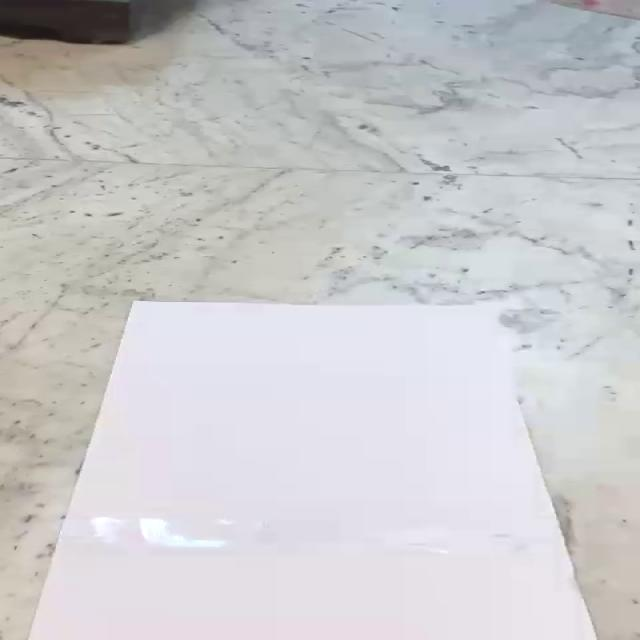road: (28, 301, 597, 640)
